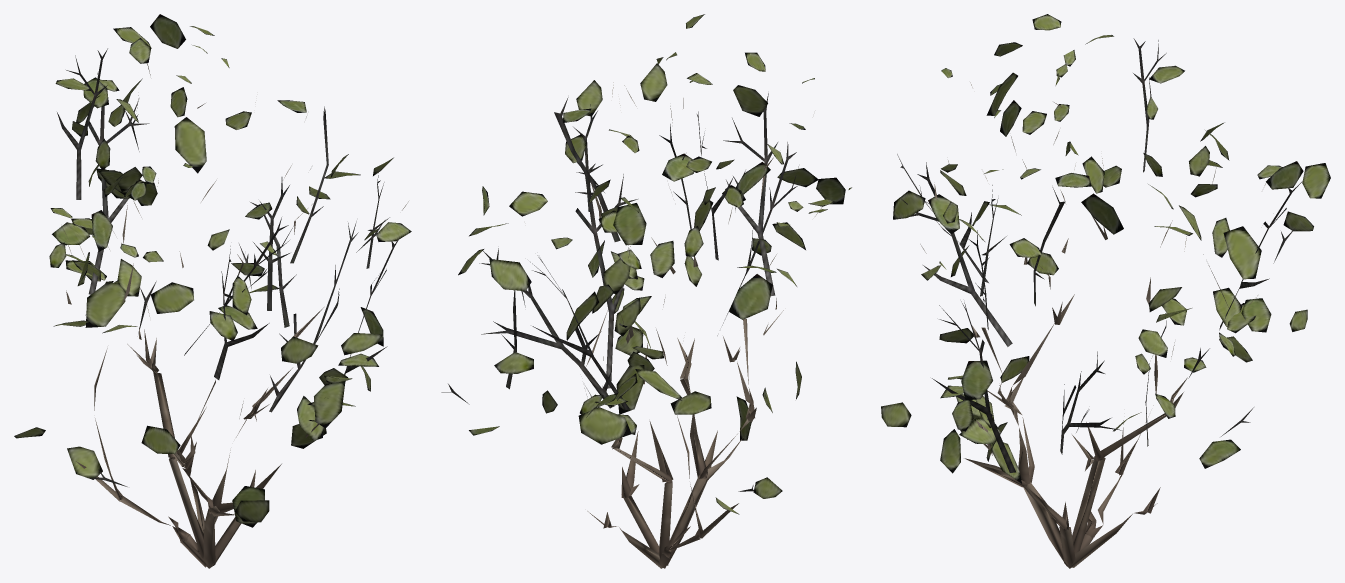
The model's file is arbuste_searsia_b_lod2.glb.
3 views of the same model, side by side, from view 1: azimuth 30°, elevation 25°; view 2: azimuth 150°, elevation 25°; view 3: azimuth 270°, elevation 25° (orthographic). The views are drawn at different scales.
Parts seen in each view (by area): view 1: searsia_lucida_b_LOD0; view 2: searsia_lucida_b_LOD0; view 3: searsia_lucida_b_LOD0.
Part boxes in pixels (bbox=[...]): searsia_lucida_b_LOD0: bbox=[14, 14, 411, 568]; searsia_lucida_b_LOD0: bbox=[441, 14, 851, 568]; searsia_lucida_b_LOD0: bbox=[881, 14, 1330, 568].
Size of the model in its own units: 1.23 by 1.98 by 1.49.
Materials: 2 (2 with a texture image).
